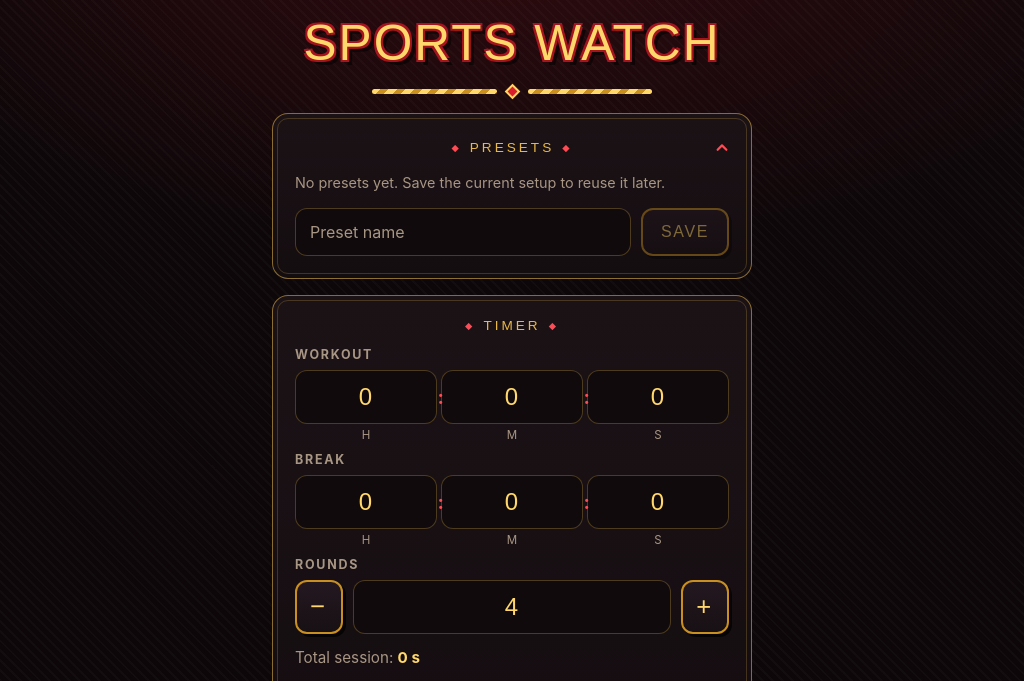
Test: saves the current setup as a named preset
The image size is (1024, 681).
Replace the text in the field named "Workout in seconds" with "45" at (658, 397), box [587,370,729,424]
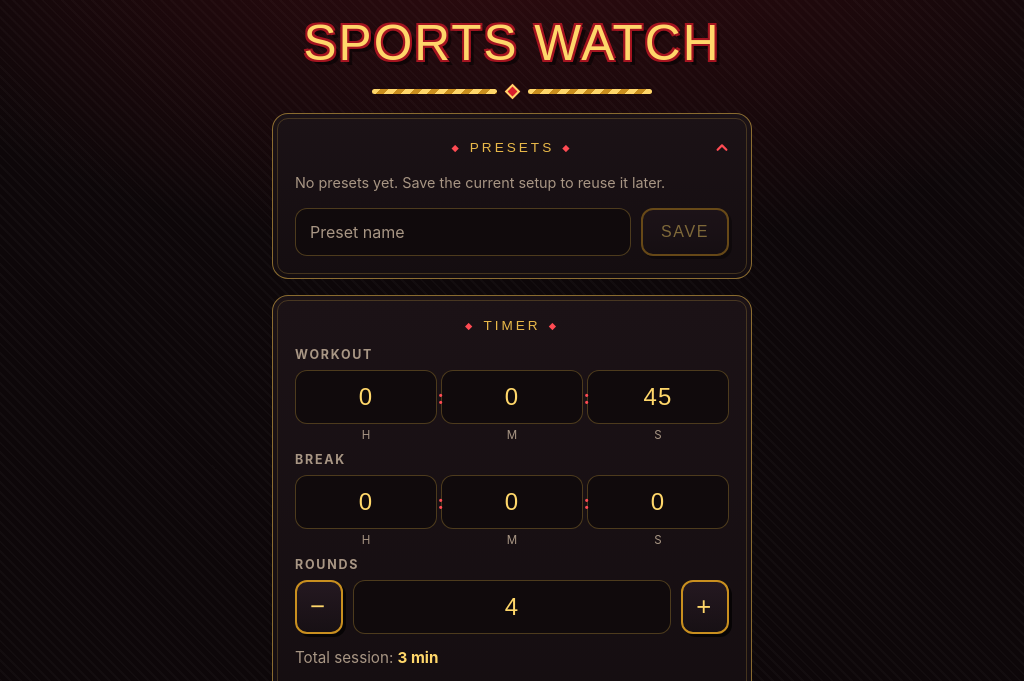
Type "Leg day" into the field labelled "Preset name" at (463, 232), box [295,208,631,256]
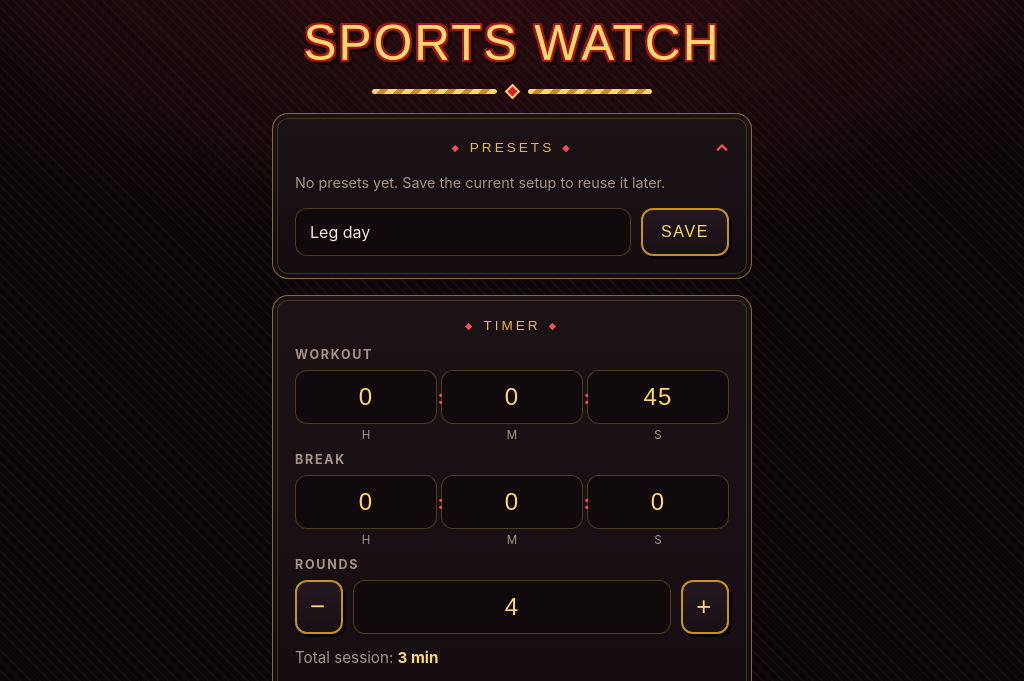
Click the button "Save" at (685, 232), box [641,208,729,256]
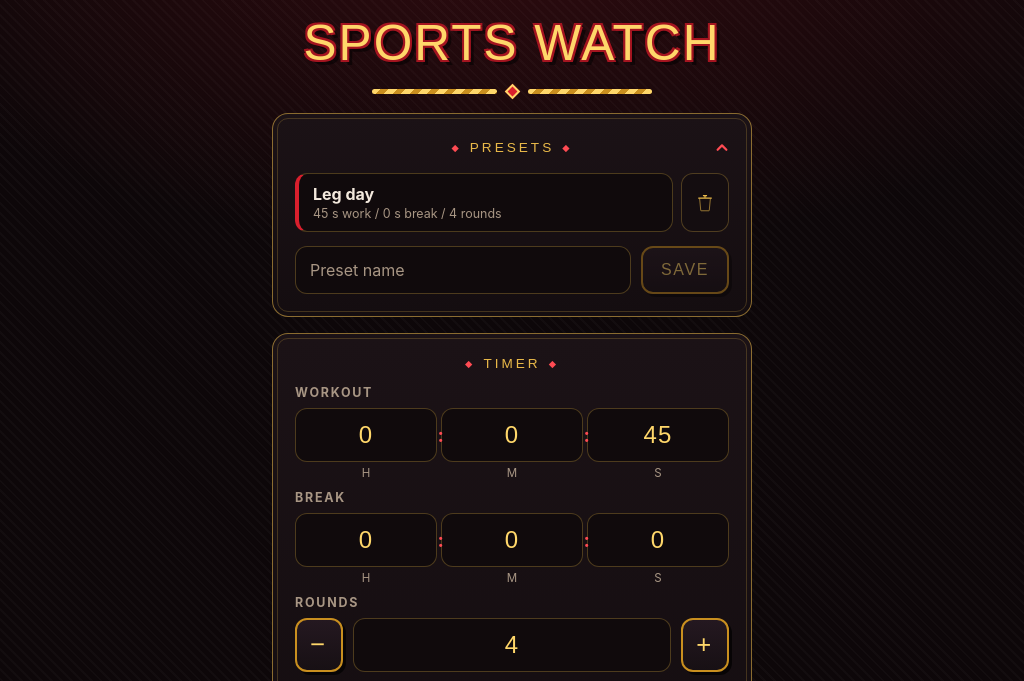
Check: the text "Leg day" is shown, box [313,184,374,204]
Check: the button "Save" is disabled, box [641,246,729,294]
